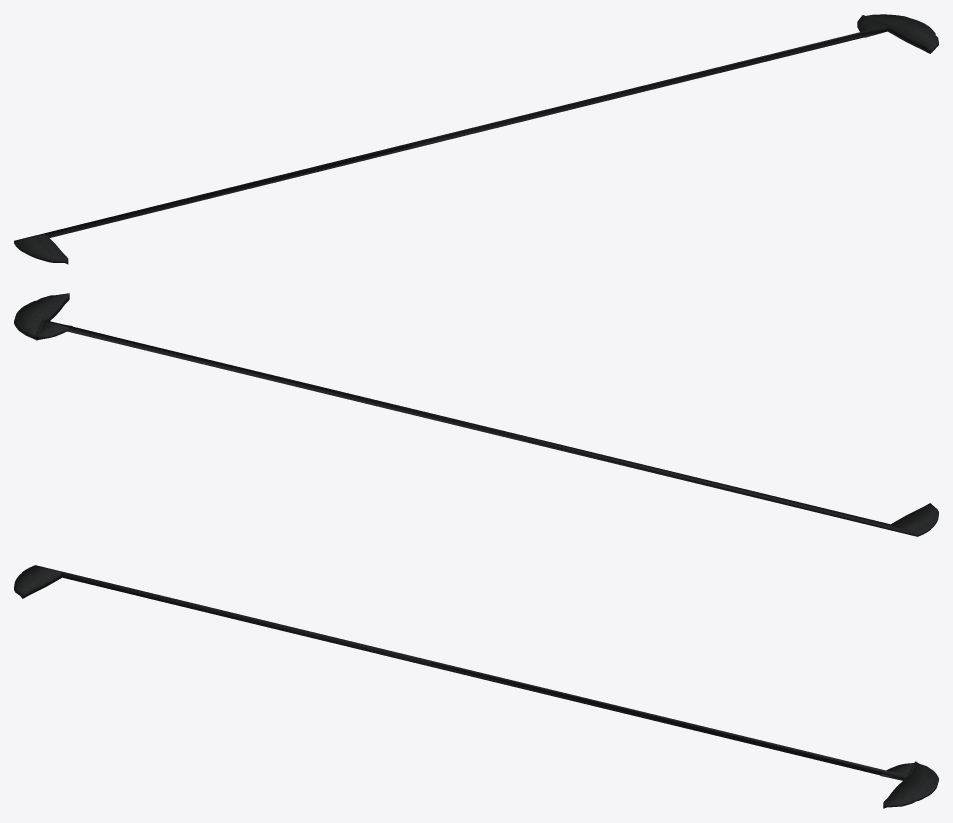
The model's file is RA50_rear_spats.glb.
3 renders of one model, top to bottom at view 1: azimuth 30°, elevation 25°; view 2: azimuth 150°, elevation 25°; view 3: azimuth 330°, elevation 25°, orthographic.
Visible parts, largest first — view 1: MOD_NA_RA50_spat_R, MOD_NA_RA50_spat_L; view 2: MOD_NA_RA50_spat_R, MOD_NA_RA50_spat_L; view 3: MOD_NA_RA50_spat_R, MOD_NA_RA50_spat_L.
Part boxes in pixels (x1,y1,x2,y2): MOD_NA_RA50_spat_R: (14,15,888,264); MOD_NA_RA50_spat_L: (861,14,938,53); MOD_NA_RA50_spat_R: (35,320,938,536); MOD_NA_RA50_spat_L: (14,293,69,340); MOD_NA_RA50_spat_R: (14,565,917,780); MOD_NA_RA50_spat_L: (883,761,938,808).
Size of the model in its own units: 1.55 by 0.01 by 0.1516.
1 material, 1 textured.
